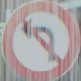Don't turn left: (2, 3, 75, 71)
